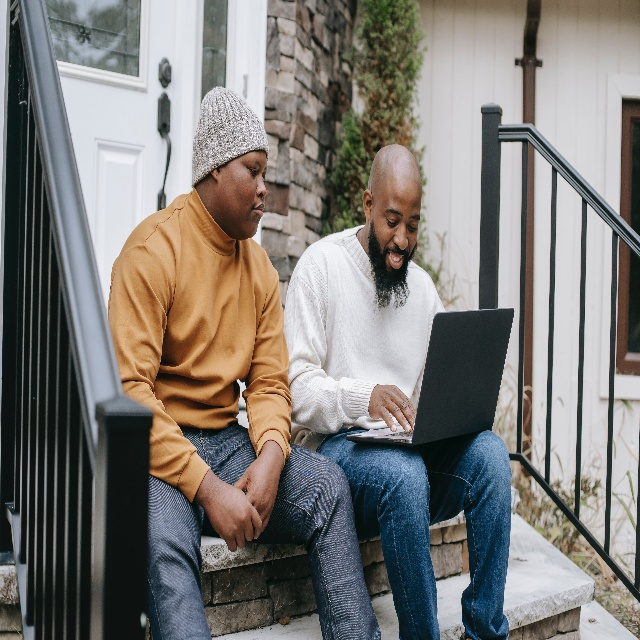Sin_guantes: (211, 474, 260, 559), (233, 449, 281, 533), (371, 382, 416, 437)
